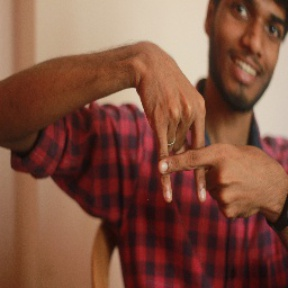H: (137, 83, 237, 218)
